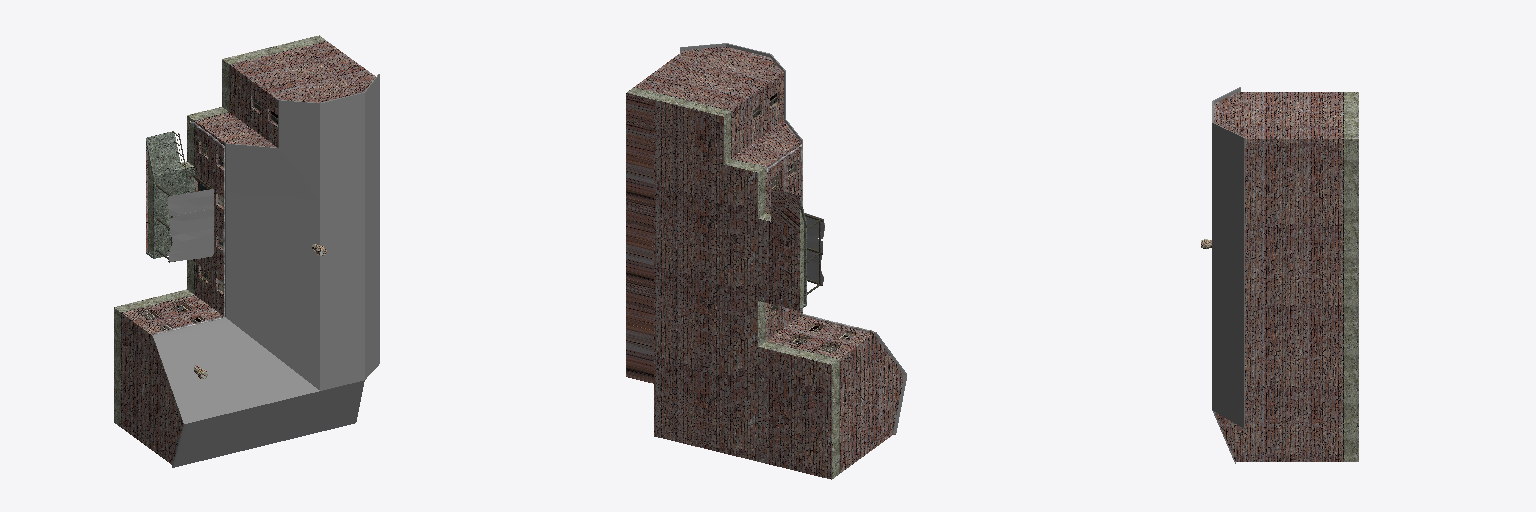
The picture shows the model from 3 angles: view 1: azimuth 30°, elevation 25°; view 2: azimuth 150°, elevation 25°; view 3: azimuth 270°, elevation 25°; orthographic projection.
Parts seen in each view (by area): view 1: MDL_Box012; view 2: MDL_Box012; view 3: MDL_Box012.
Boxes of the visible parts, x1,y1,x2,y2 form: MDL_Box012: [114, 35, 379, 467]; MDL_Box012: [626, 43, 906, 479]; MDL_Box012: [1212, 87, 1358, 463].
Bounding box in the file's own units: 28.7 × 44.06 × 18.48.
10 materials, 8 textured.